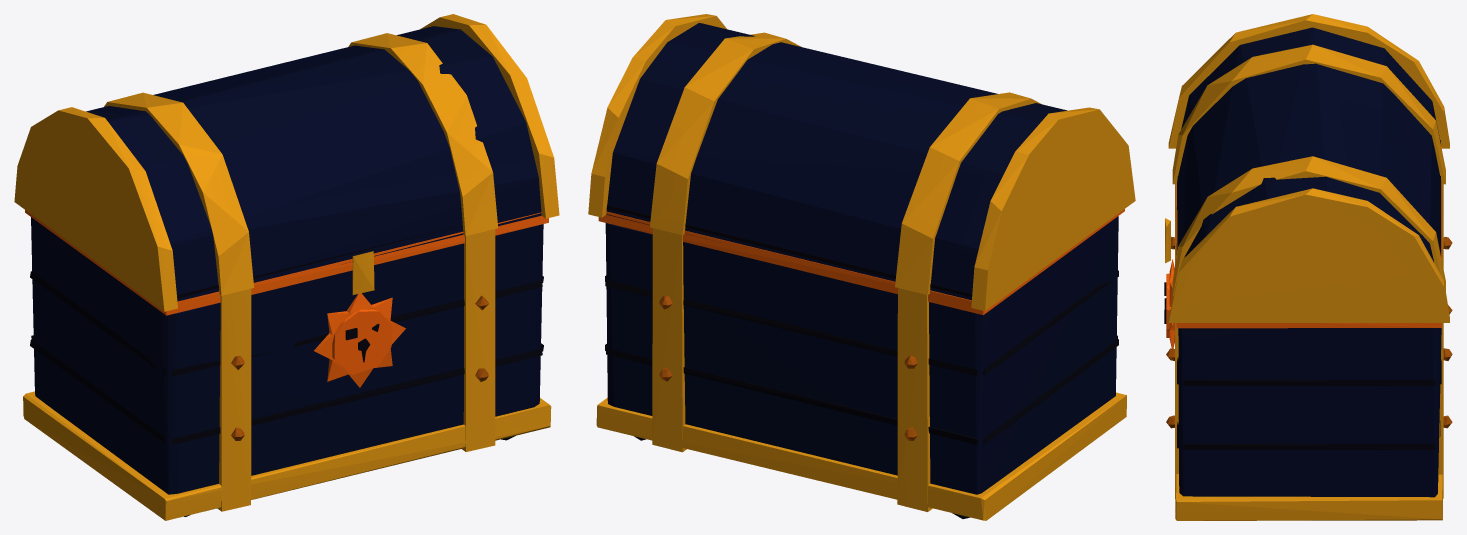
The model's file is grand_treasure_chest.three-web-toon.lod50.glb.
3 renders of one model, left to right at view 1: azimuth 30°, elevation 25°; view 2: azimuth 150°, elevation 25°; view 3: azimuth 270°, elevation 25°, orthographic. The views are drawn at different scales.
Visible parts, largest first — view 1: chest_body_lod, chest_lid_lod; view 2: chest_body_lod, chest_lid_lod; view 3: chest_lid_lod, chest_body_lod.
Part boxes in pixels (x1,y1,x2,y2): chest_body_lod: (23, 210, 551, 520); chest_lid_lod: (14, 14, 559, 311); chest_body_lod: (596, 209, 1126, 520); chest_lid_lod: (588, 14, 1135, 310); chest_lid_lod: (1165, 14, 1449, 322); chest_body_lod: (1164, 145, 1452, 520).
Bounding box in the file's own units: 2.17 × 1.93 × 1.47.
